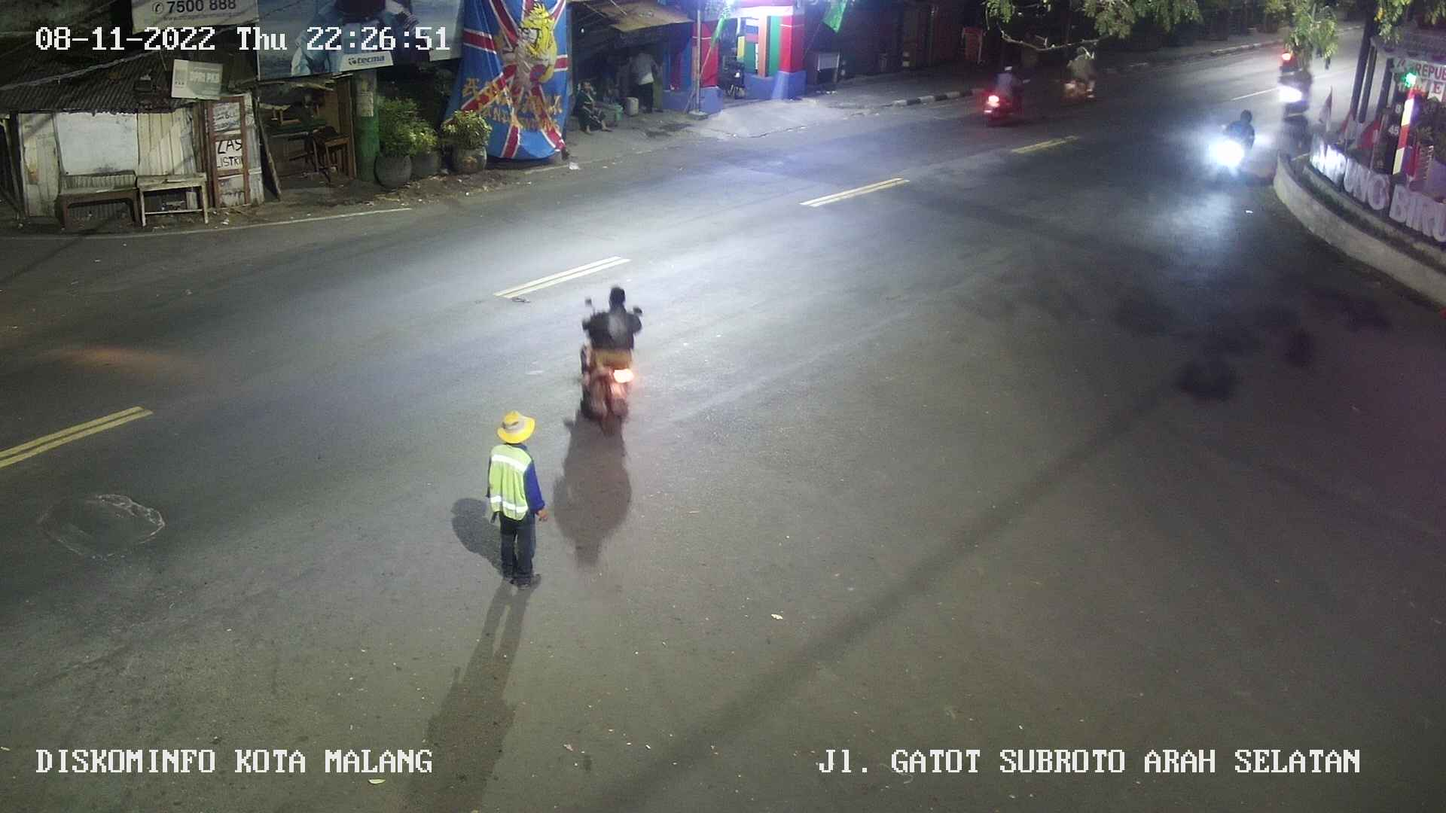without_helmet: (558, 269, 650, 442)
